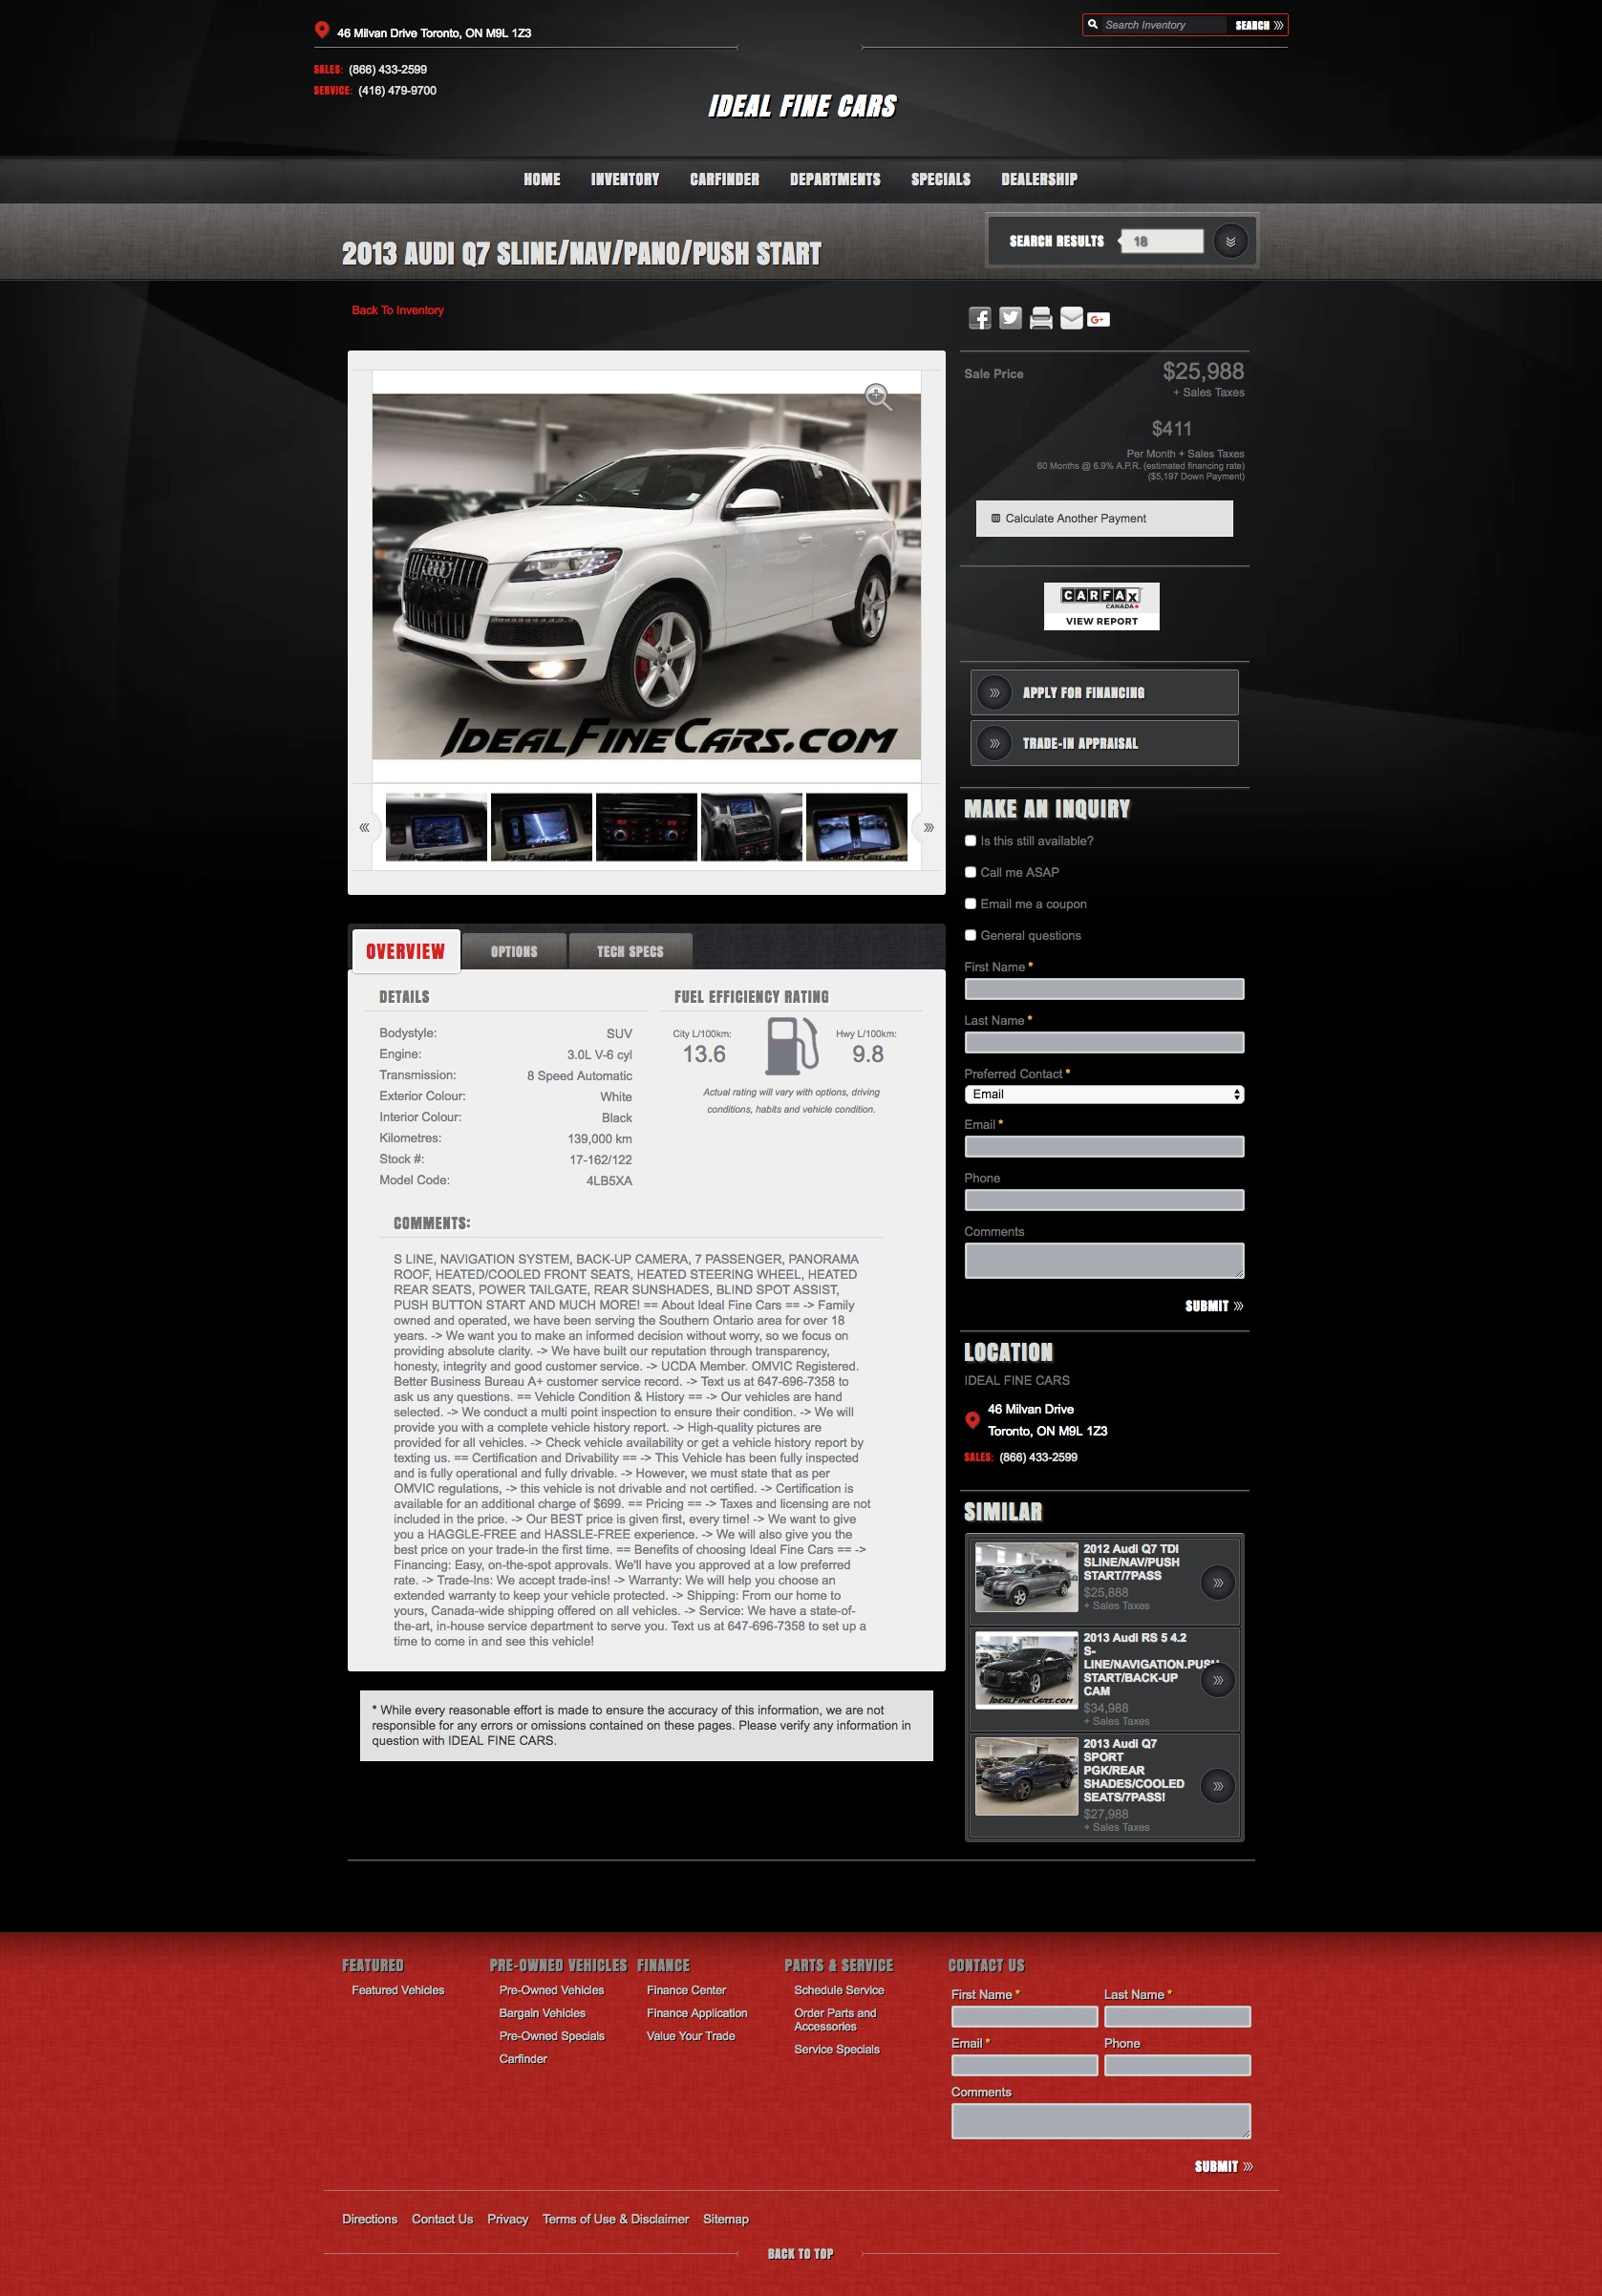car: (923, 822, 935, 834)
